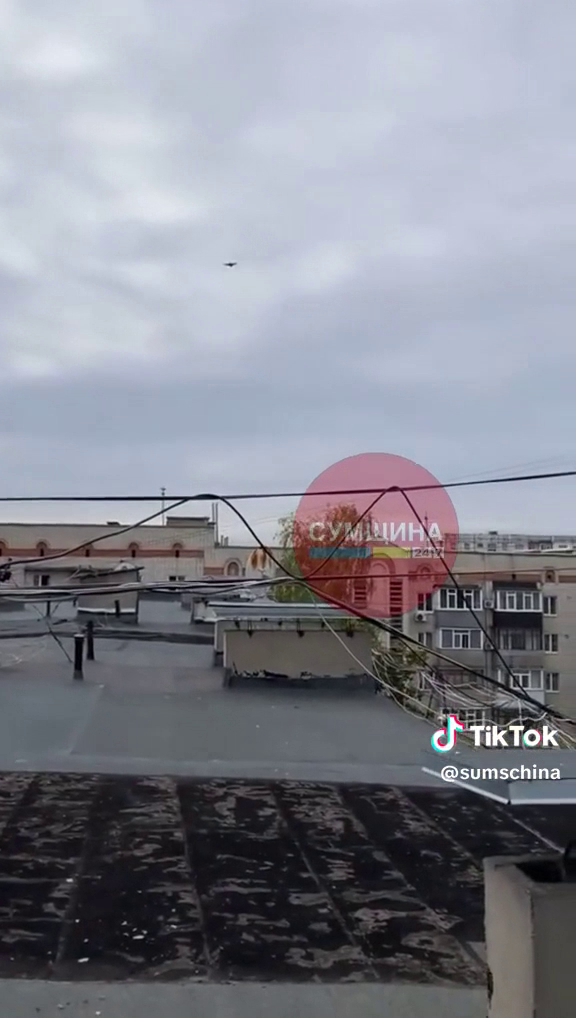shahed: (224, 262, 237, 268)
